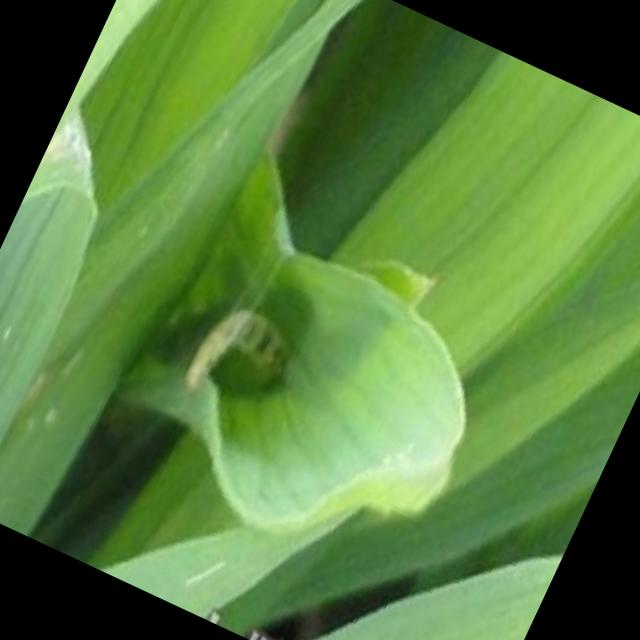leaf-folder: (146, 242, 360, 468)
